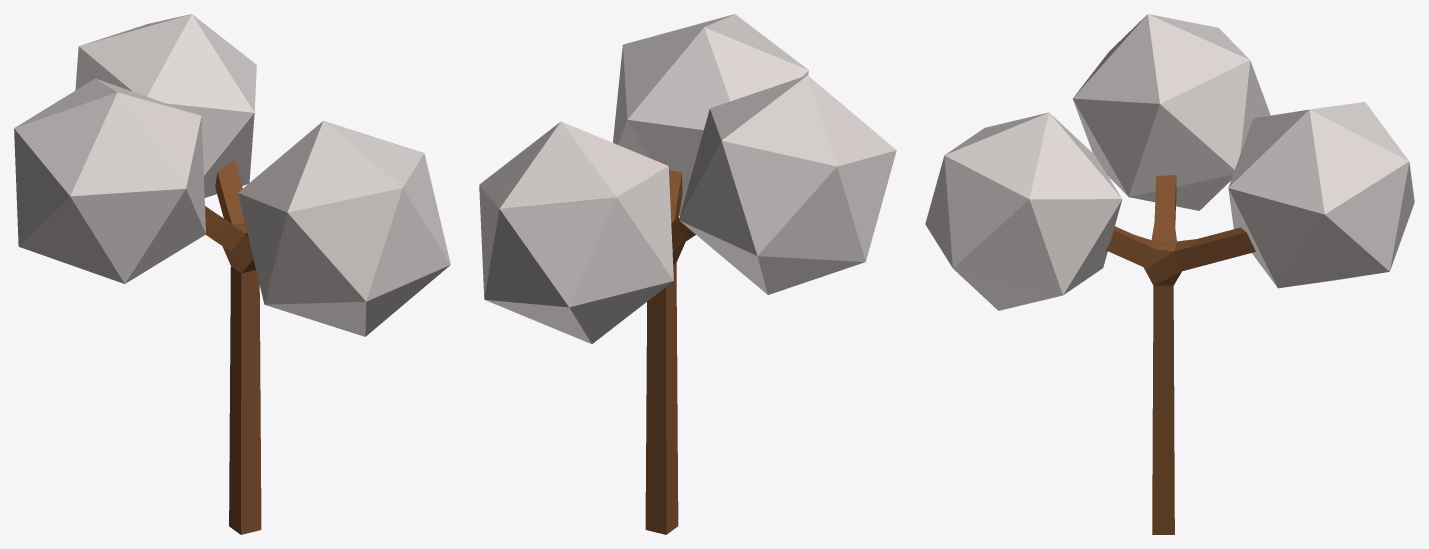
File: Snow3.fbx
3 renders of one model, left to right at view 1: azimuth 30°, elevation 25°; view 2: azimuth 150°, elevation 25°; view 3: azimuth 270°, elevation 25°, orthographic. The views are drawn at different scales.
Visible parts, largest first — view 1: Cube.002; view 2: Cube.002; view 3: Cube.002.
Part boxes in pixels (x1,y1,x2,y2): Cube.002: (14, 14, 450, 534); Cube.002: (479, 14, 896, 534); Cube.002: (925, 14, 1414, 534).
Size of the model in its own units: 40.88 by 57.43 by 56.25.
